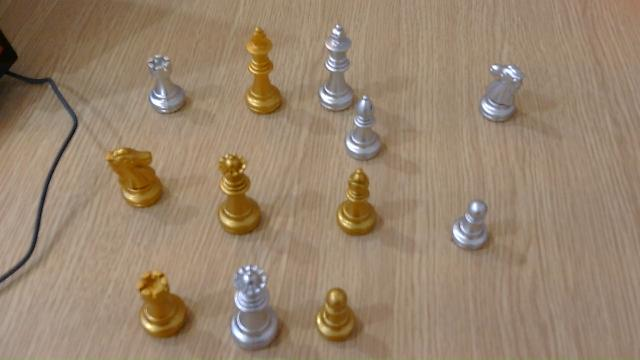black_bishop: (335, 168, 378, 235)
black_king: (243, 26, 284, 115)
black_knight: (105, 145, 163, 207)
black_pawn: (314, 286, 357, 339)
black_queen: (219, 153, 262, 234)
black_rook: (136, 267, 188, 335)
white_bishop: (345, 97, 386, 160)
white_king: (319, 25, 356, 111)
white_knight: (480, 64, 523, 122)
white_pawn: (451, 201, 491, 249)
white_queen: (230, 265, 281, 348)
white_rook: (145, 53, 188, 115)
